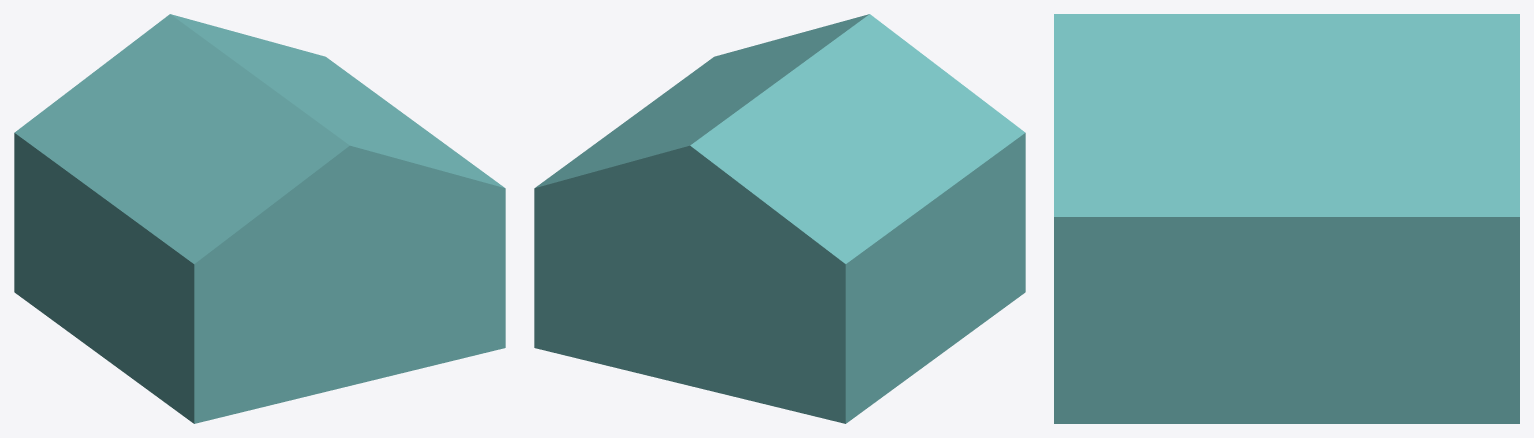
Rendered from Project 04_EW Residence.glb.
3 renders of one model, left to right at view 1: azimuth 30°, elevation 25°; view 2: azimuth 150°, elevation 25°; view 3: azimuth 270°, elevation 25°, orthographic. The views are drawn at different scales.
Size of the model in its own units: 1 by 0.7377 by 1.
